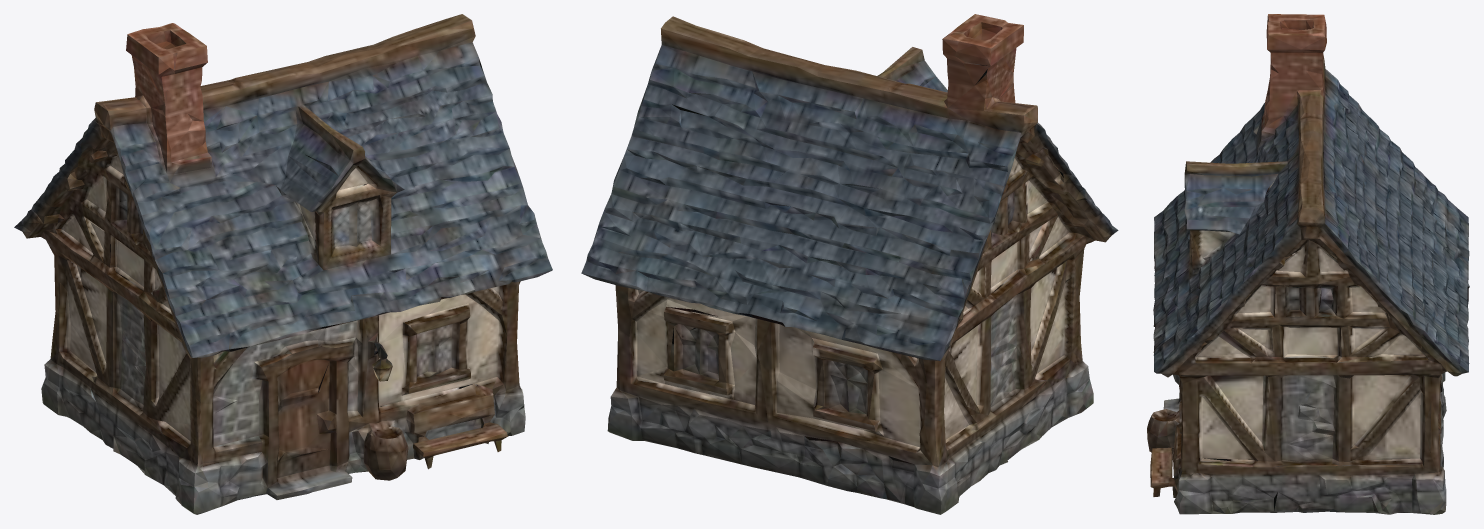
The model's file is house_peasant_b_lod1.glb.
3 renders of one model, left to right at view 1: azimuth 30°, elevation 25°; view 2: azimuth 150°, elevation 25°; view 3: azimuth 270°, elevation 25°, orthographic. The views are drawn at different scales.
Parts seen in each view (by area): view 1: lod; view 2: lod; view 3: lod.
Boxes of the visible parts, x1,y1,x2,y2 form: lod: (14, 14, 552, 514); lod: (581, 14, 1118, 514); lod: (1147, 14, 1469, 514).
Size of the model in its own units: 1.7 by 1.84 by 1.47.
1 material, 1 textured.
